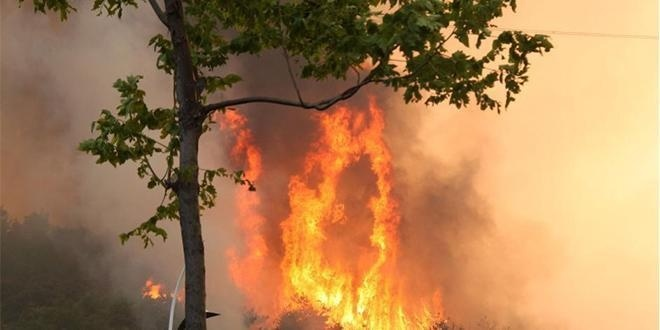fire: (236, 103, 449, 330), (140, 278, 168, 300)
